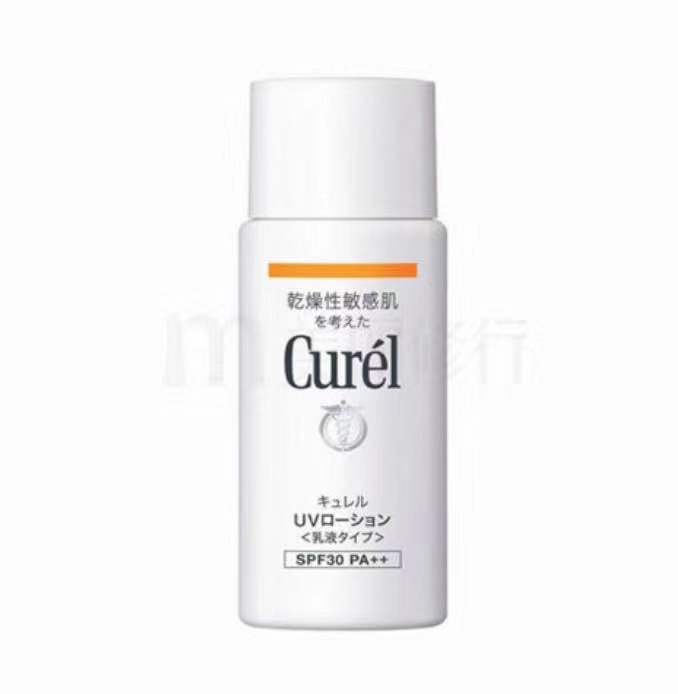cosmetic: (238, 76, 447, 623)
